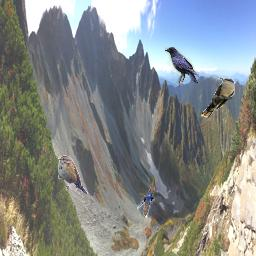Crow: (165, 47, 199, 87)
Cuckoo: (200, 78, 235, 118)
Sparrow: (58, 155, 88, 194)
Swallow: (137, 176, 155, 216)
